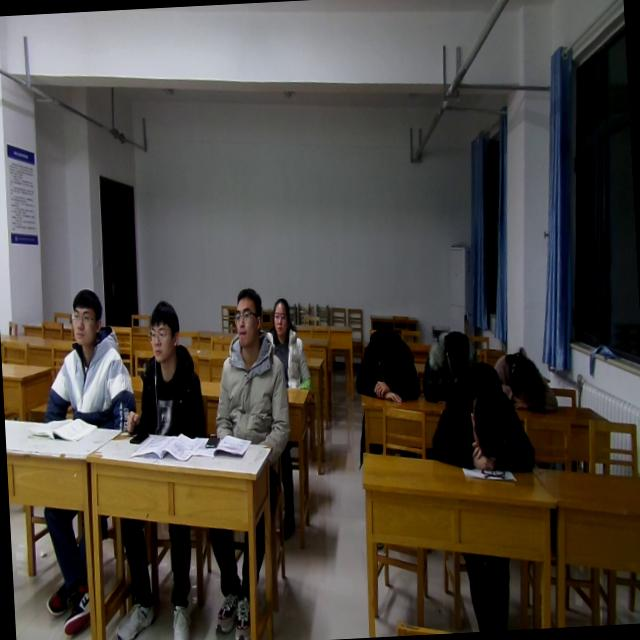bow: (424, 354, 537, 476), (351, 324, 422, 408), (492, 342, 560, 417), (418, 326, 481, 404)
lookup: (146, 295, 184, 367), (64, 280, 105, 345), (230, 285, 268, 351), (269, 290, 293, 346)
sit: (37, 284, 138, 436), (206, 286, 292, 452), (119, 300, 208, 441), (264, 294, 313, 394)
